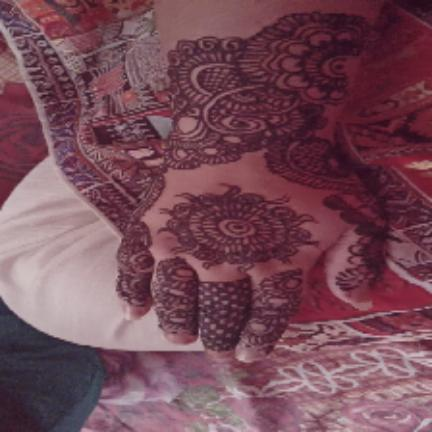Nail: (350, 285, 373, 310), (235, 348, 261, 362), (166, 333, 192, 344), (124, 308, 142, 321), (208, 351, 227, 358)
